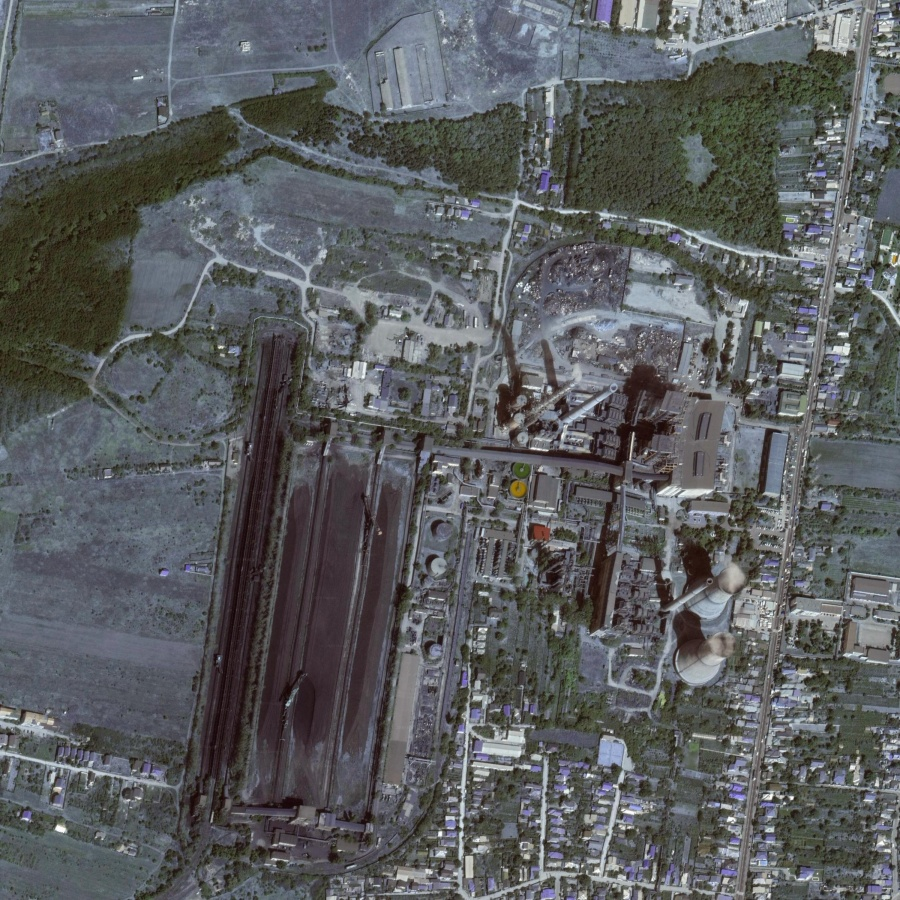PowerPlant: (202, 306, 756, 854)
